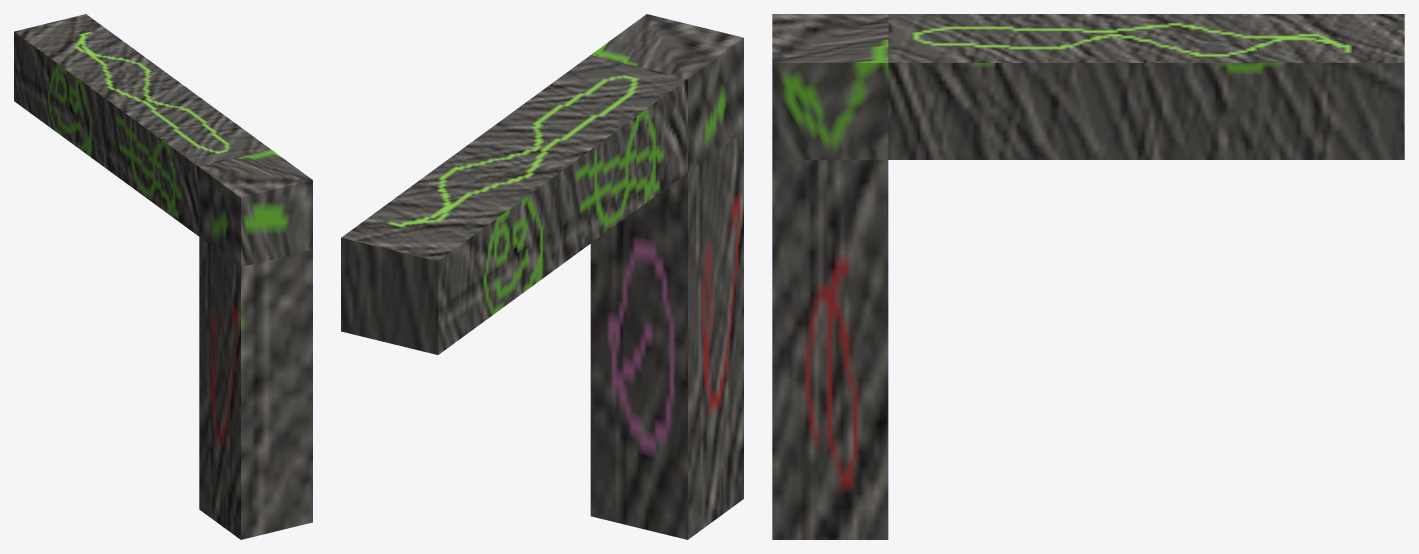
The model's file is gun.obj.
The picture shows the model from 3 angles, left to right: view 1: azimuth 30°, elevation 25°; view 2: azimuth 150°, elevation 25°; view 3: azimuth 270°, elevation 25°; orthographic projection. The views are drawn at different scales.
Parts seen in each view (by area): view 1: Cube; view 2: Cube; view 3: Cube.
Boxes of the visible parts, box(x1,y1,x2,y2) form: Cube: box(14, 14, 312, 539); Cube: box(341, 14, 743, 539); Cube: box(772, 14, 1404, 539).
Size of the model in its own units: 0.7078 by 3.21 by 3.86.
Materials: 1 (1 with a texture image).
